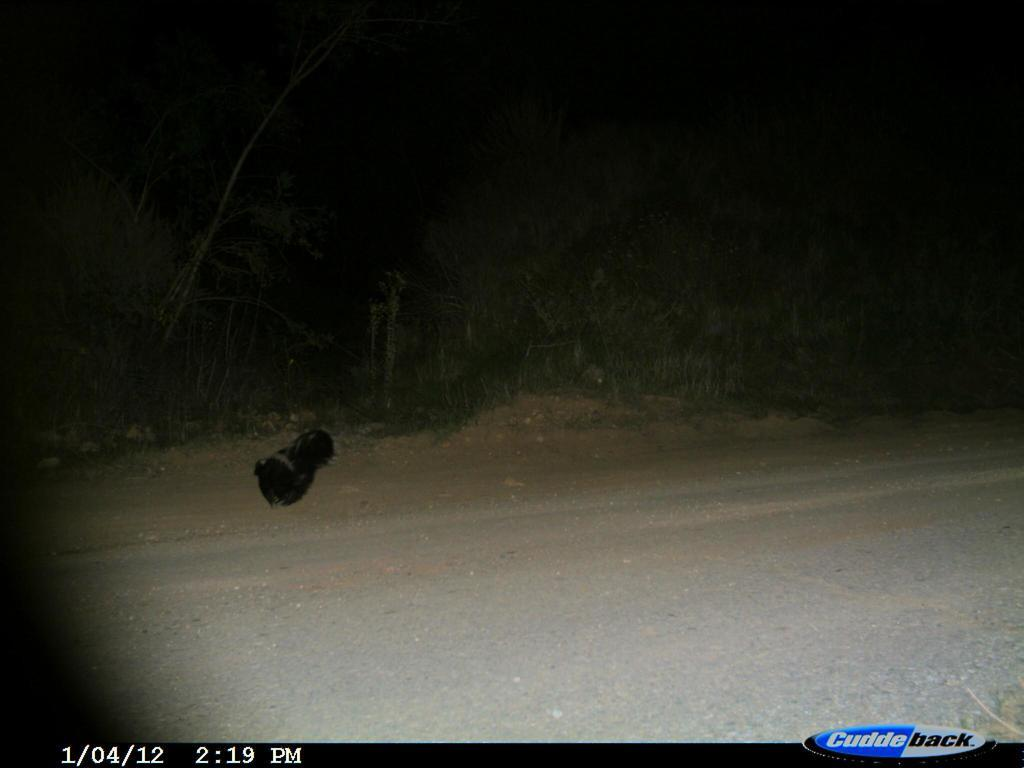skunk: (243, 413, 359, 532)
